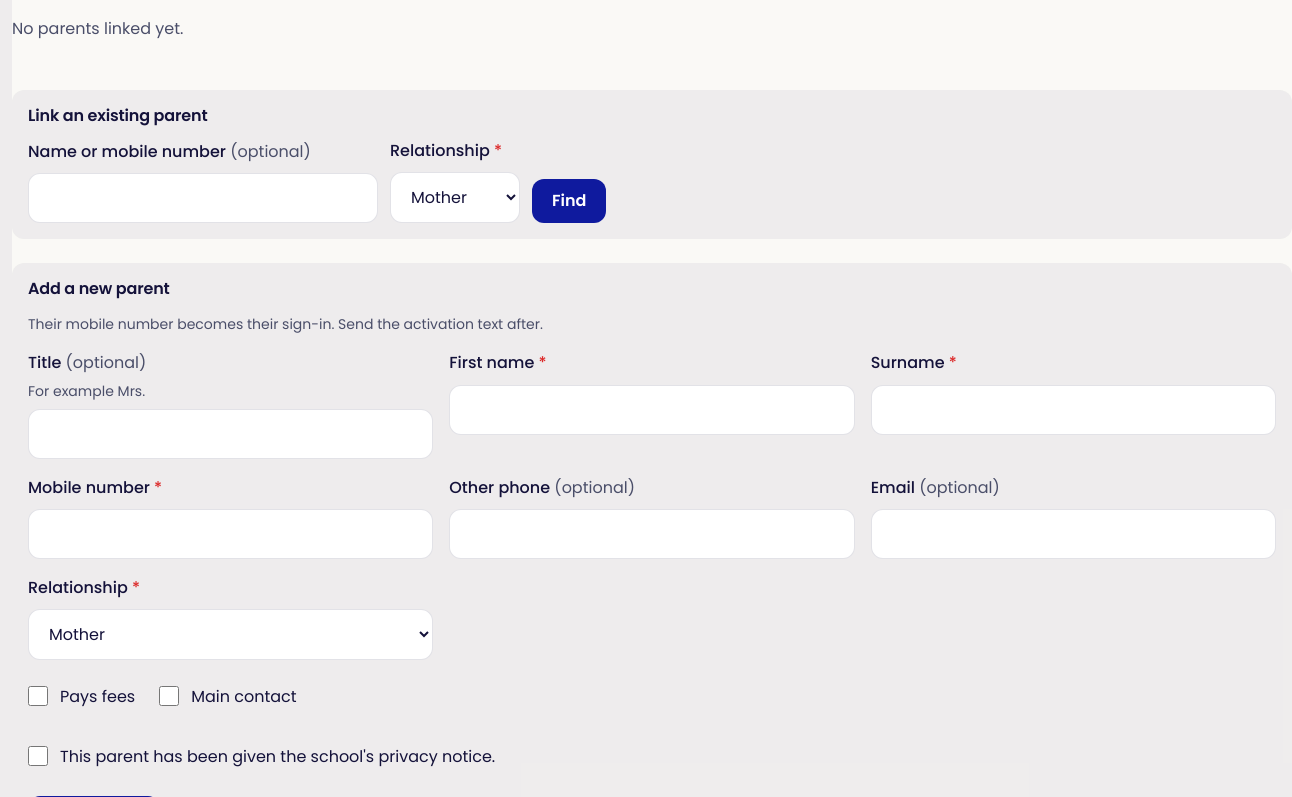
Test: ParentsTab › adds a new parent linked to the pupil
Type "Kojo" into the field labelled "First name *" at (652, 410), box [449, 384, 855, 434]
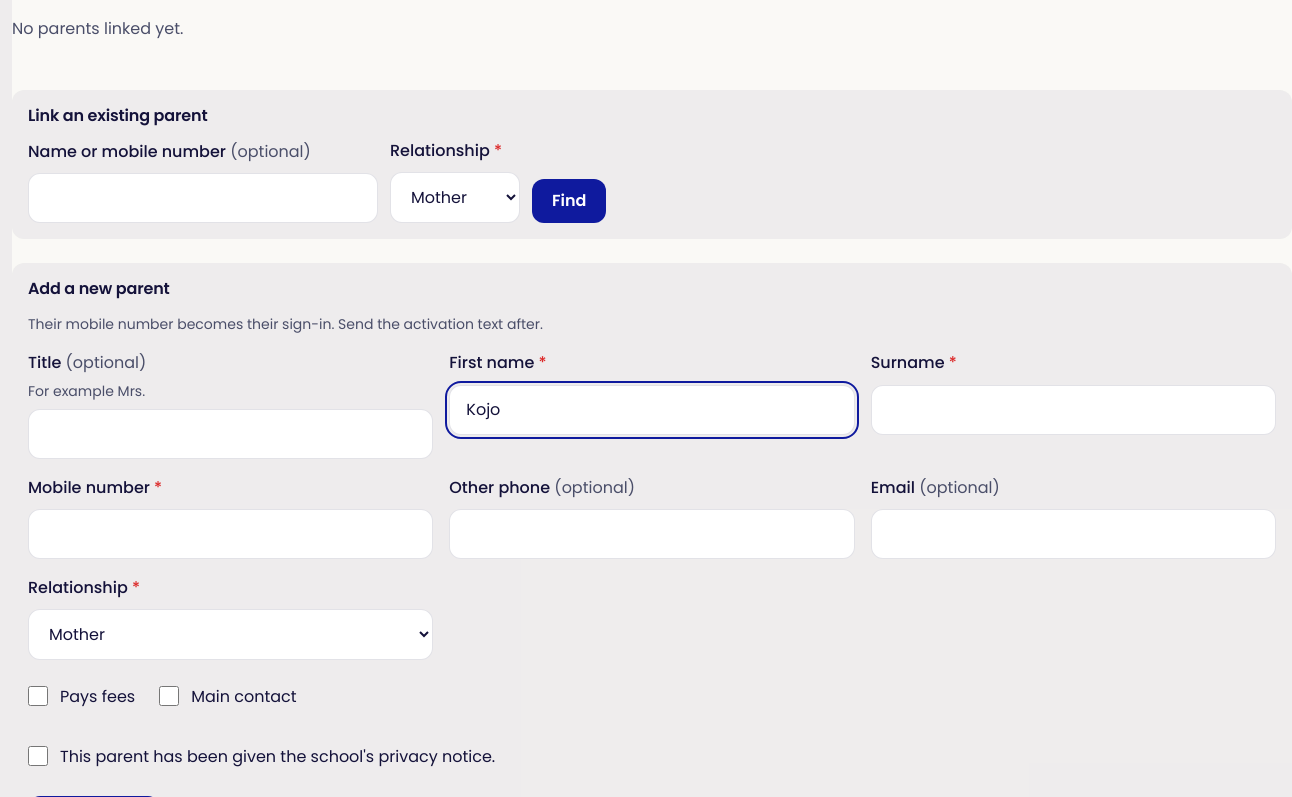
Type "Mensah" into the field labelled "Surname *" at (1073, 410), box [871, 384, 1276, 434]
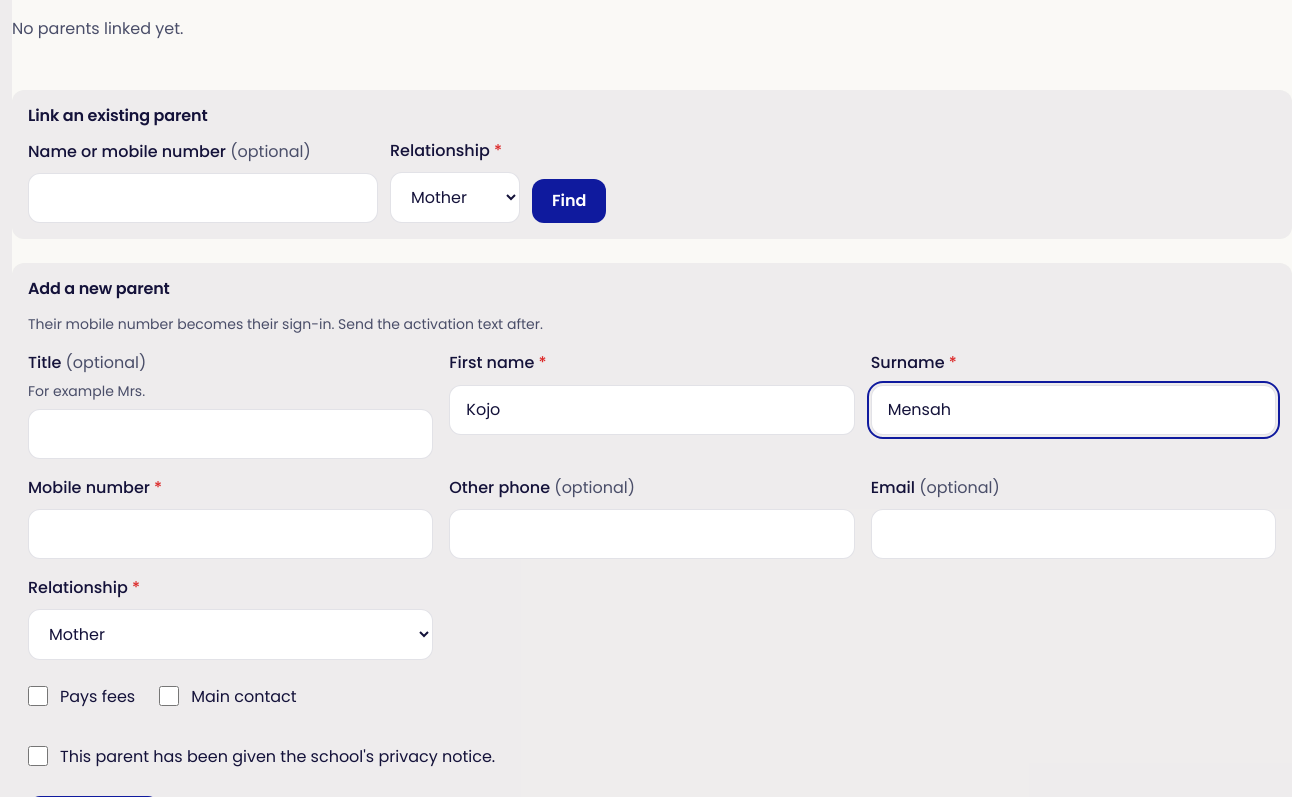
Type "024 555 0002" into the field labelled "Mobile number *" at (231, 534), box [28, 509, 433, 559]
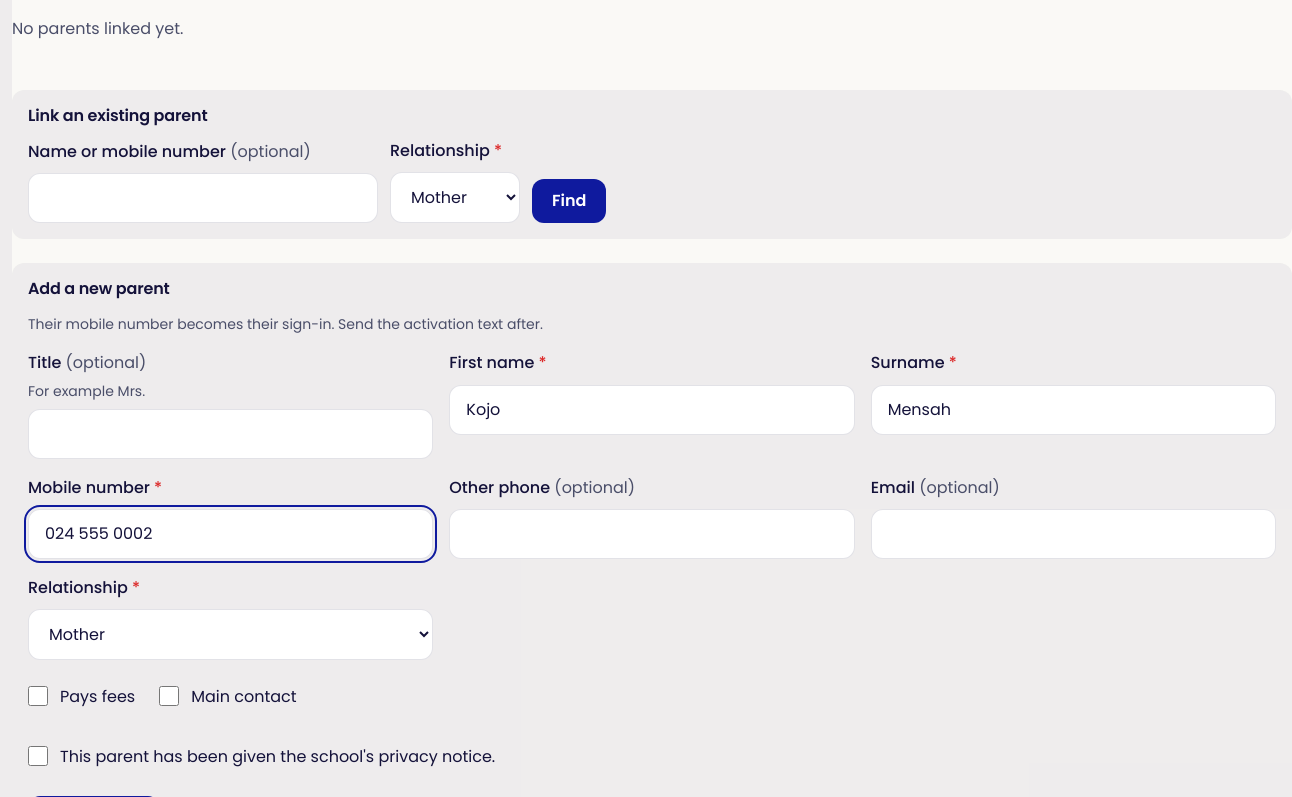
Select "Father" in the dropdown labelled "Relationship *" below "Other phone" at (231, 635), box [28, 609, 433, 660]
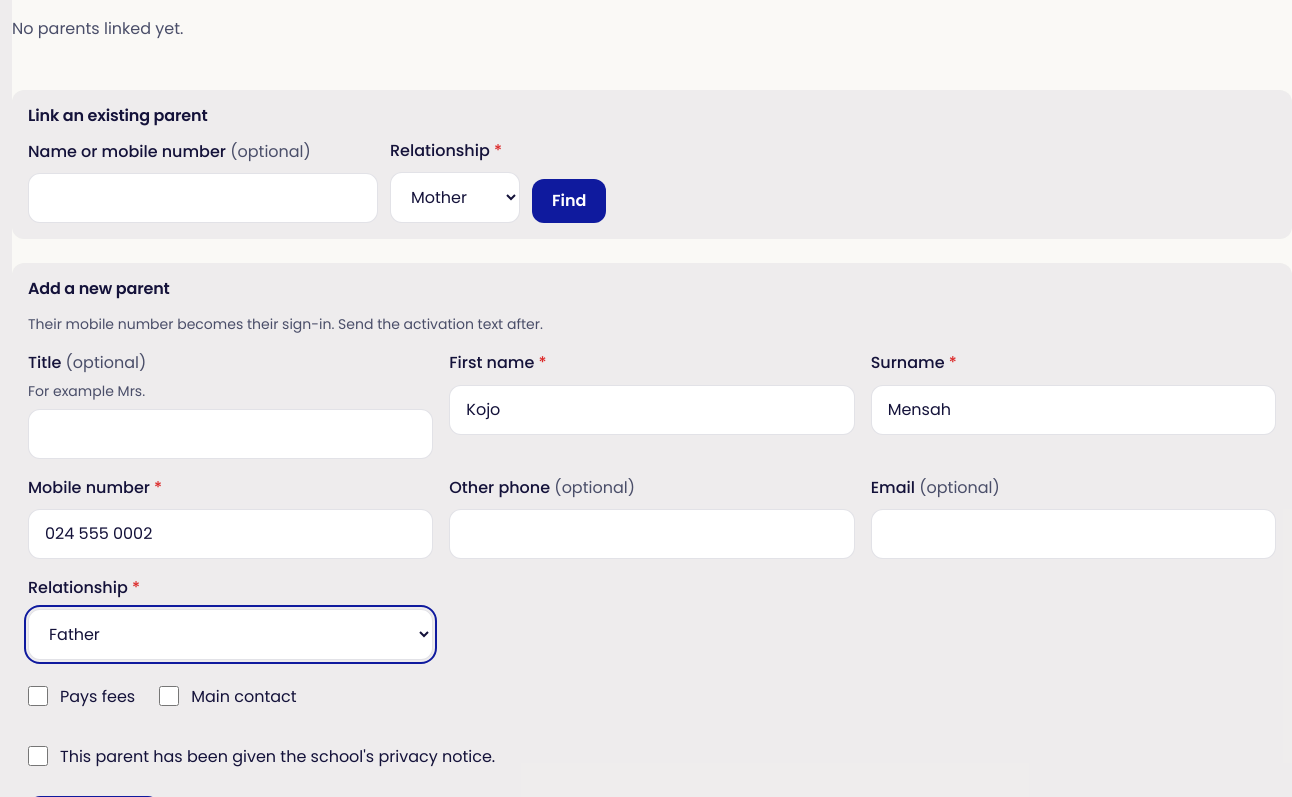
Click the checkbox labelled "This parent has been given the school's privacy notice." at (38, 756), box [28, 746, 48, 766]
(page scrolled)
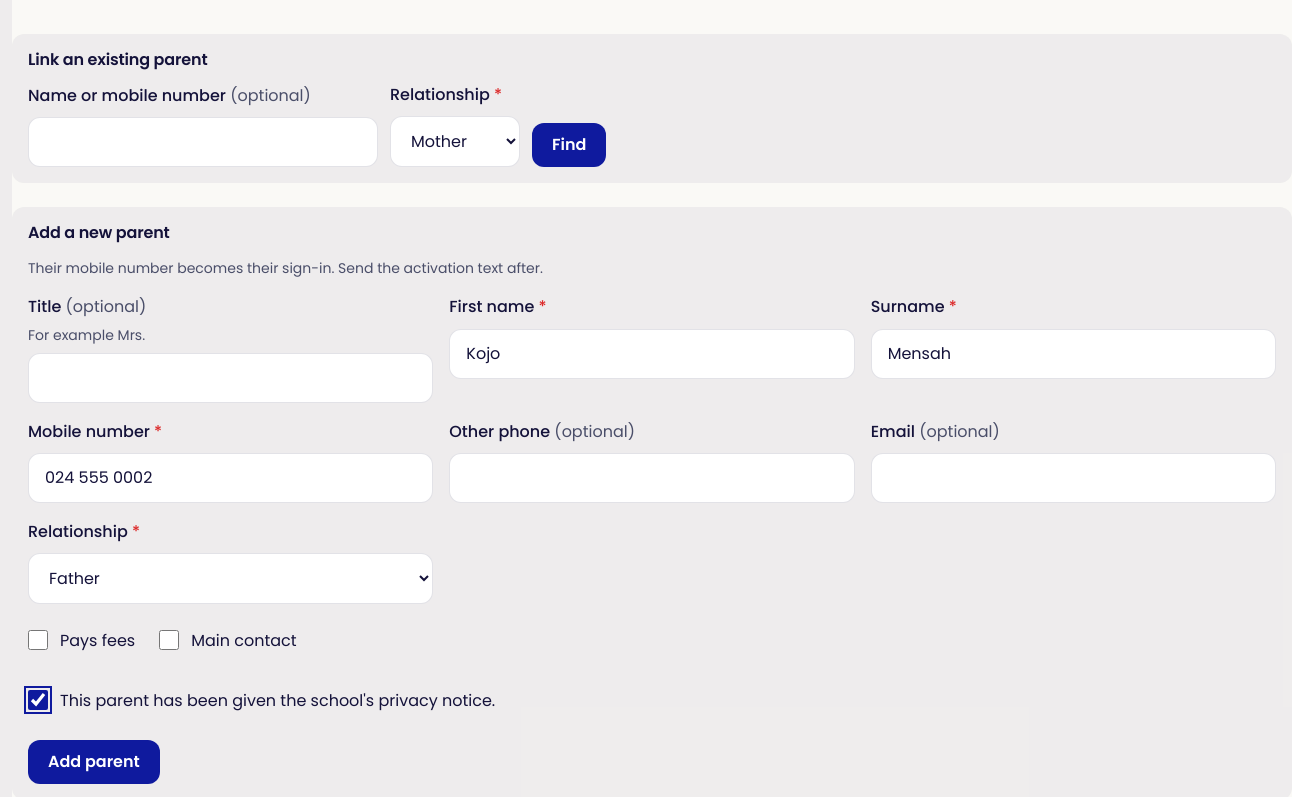
Click the button "Add parent" at (94, 762), box [28, 740, 160, 784]
(page scrolled)
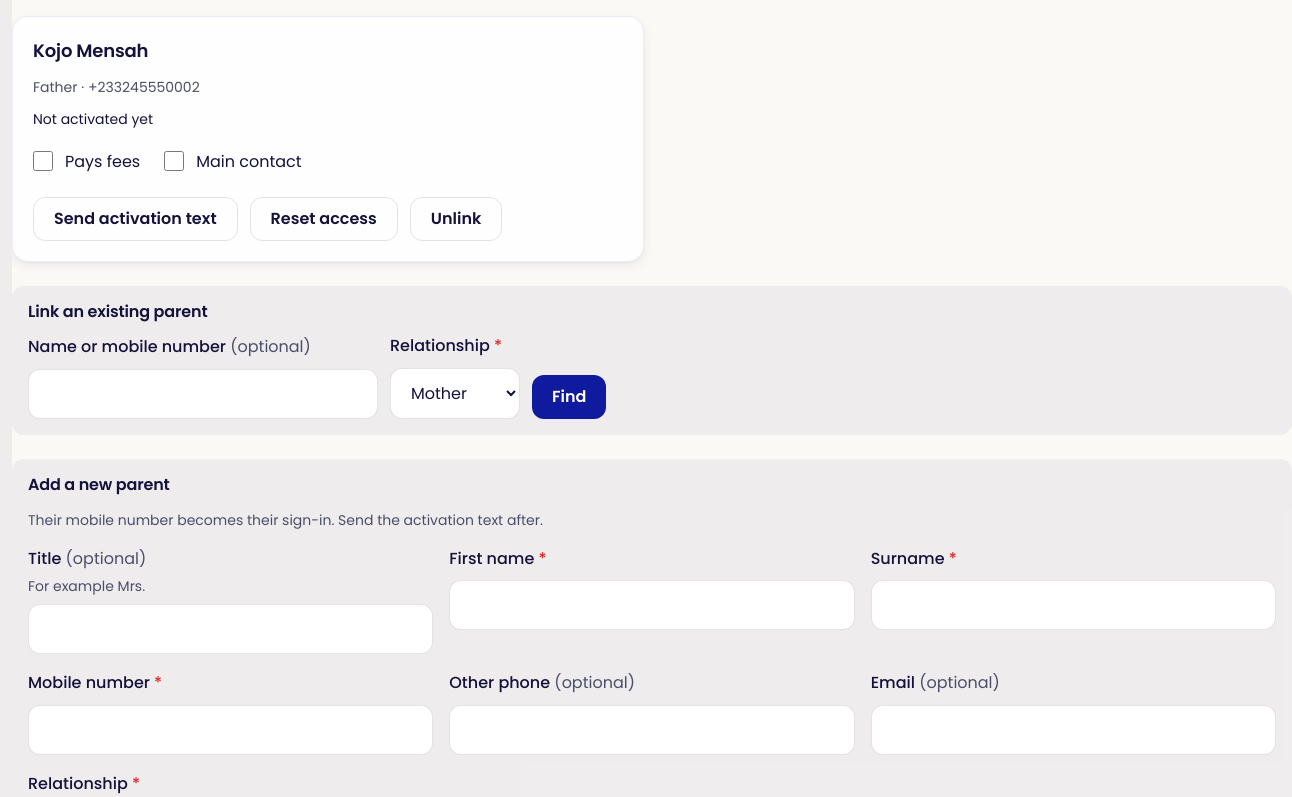
Expected: the element "Kojo Mensah" is shown, [12, 16, 644, 262]
